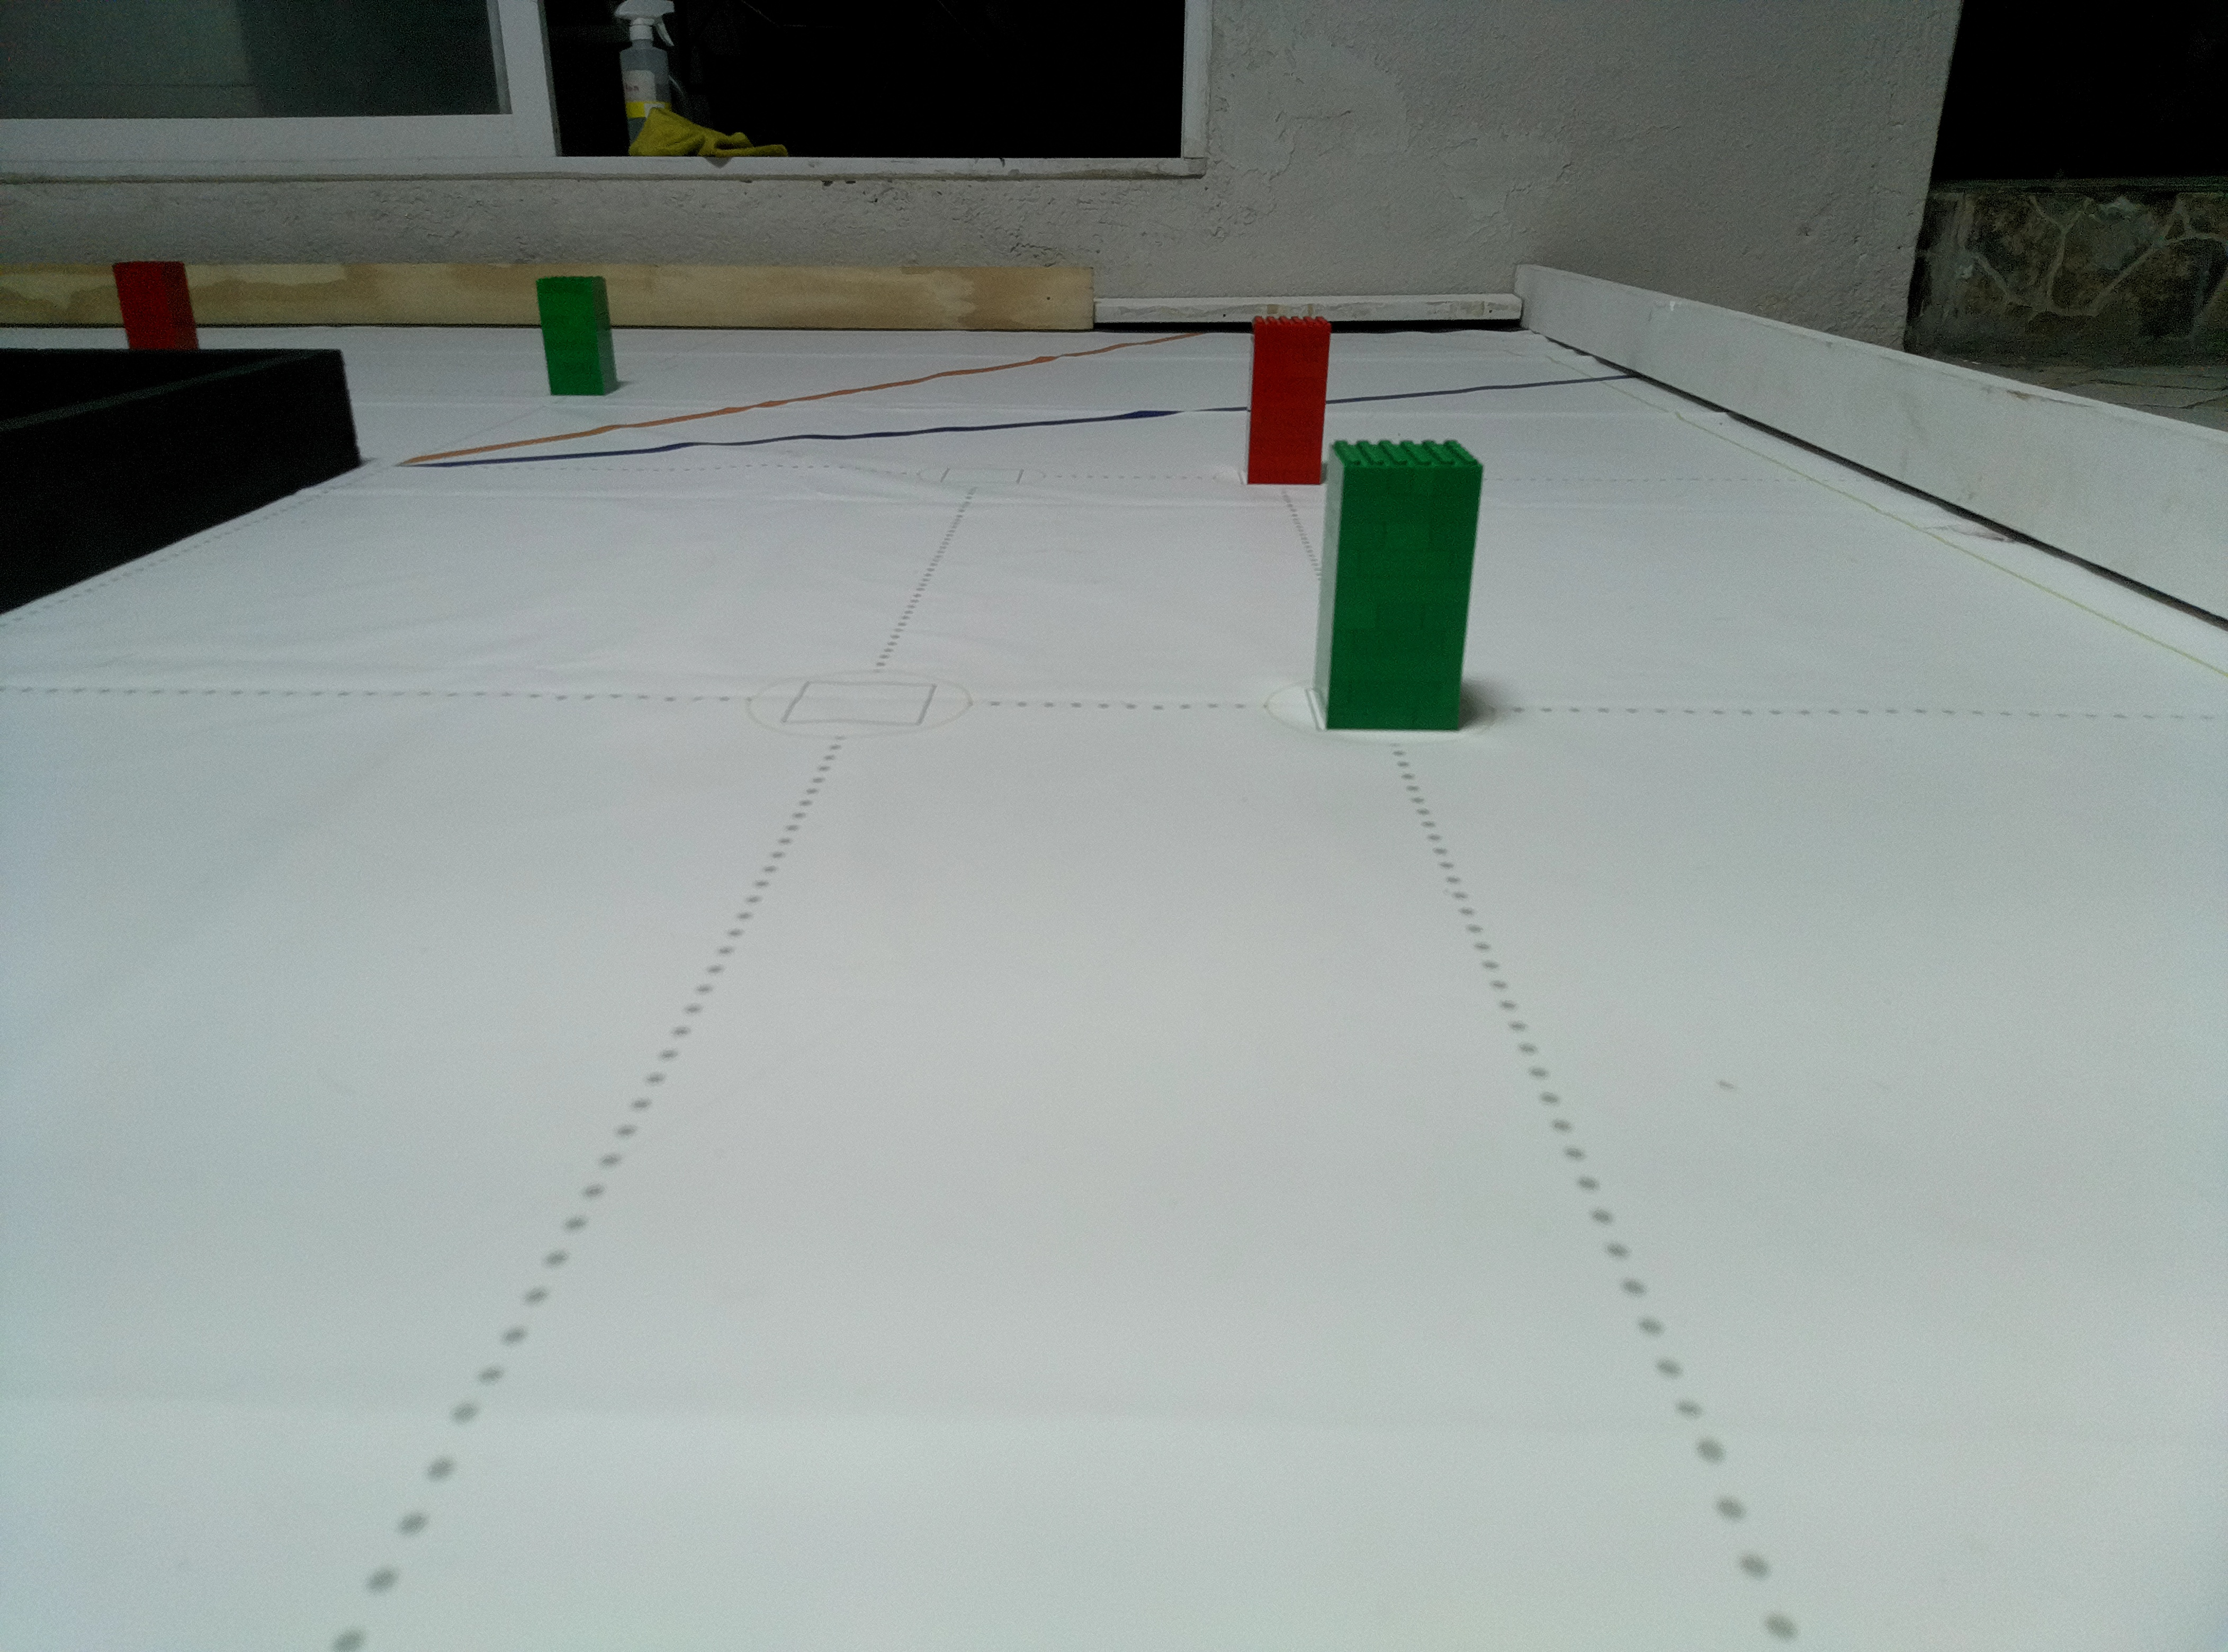greenbox: (1307, 439, 1485, 736), (533, 274, 621, 399)
redbox: (1242, 312, 1334, 488), (109, 260, 203, 351)
